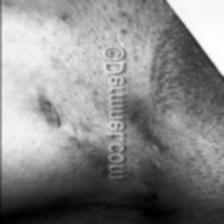Non-Cancerous Skin Condition: (124, 90, 202, 214)
